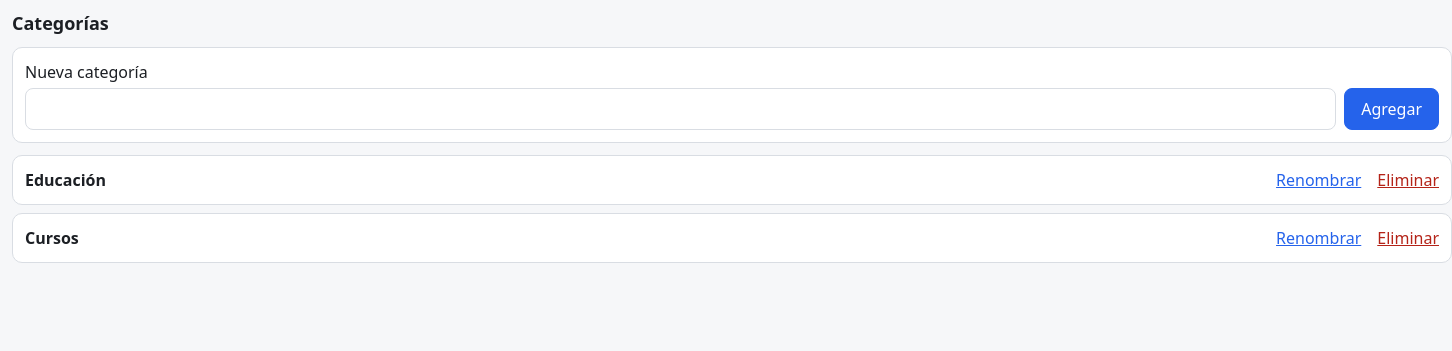
Test: CategoriesPage › muestra el error al renombrar con el nombre de otra categoría
Click the button with aria-label "Renombrar Cursos". click: x=1319, y=238
box: [1276,226,1361,250]
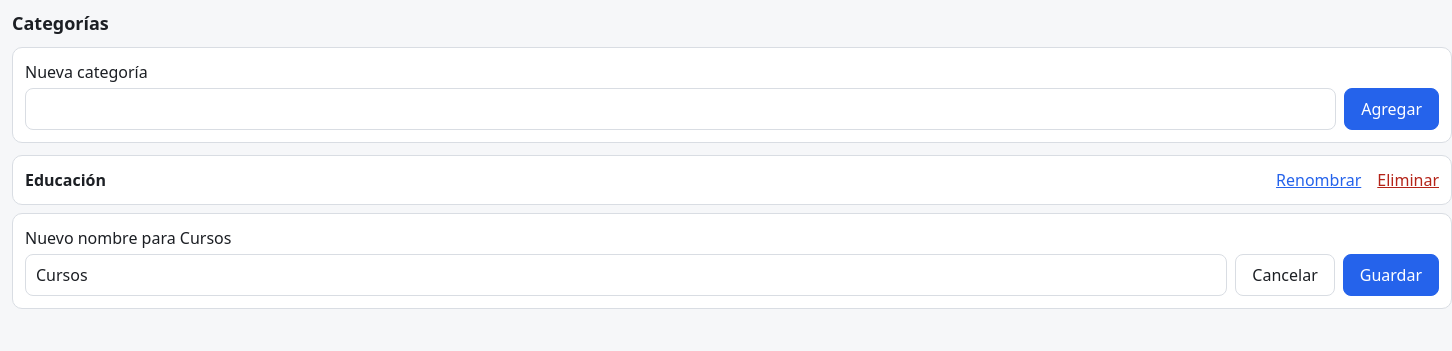
Replace the text in the field labelled "Nuevo nombre para Cursos" with "educacion". click: x=626, y=274
box: [25,254,1227,296]
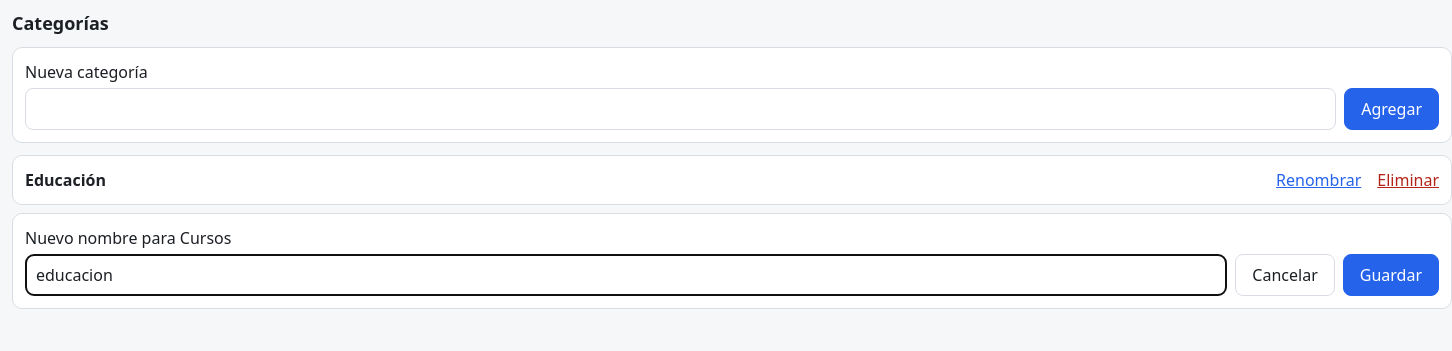
Click the button "Guardar". click: x=1391, y=274
box: [1343,254,1439,296]
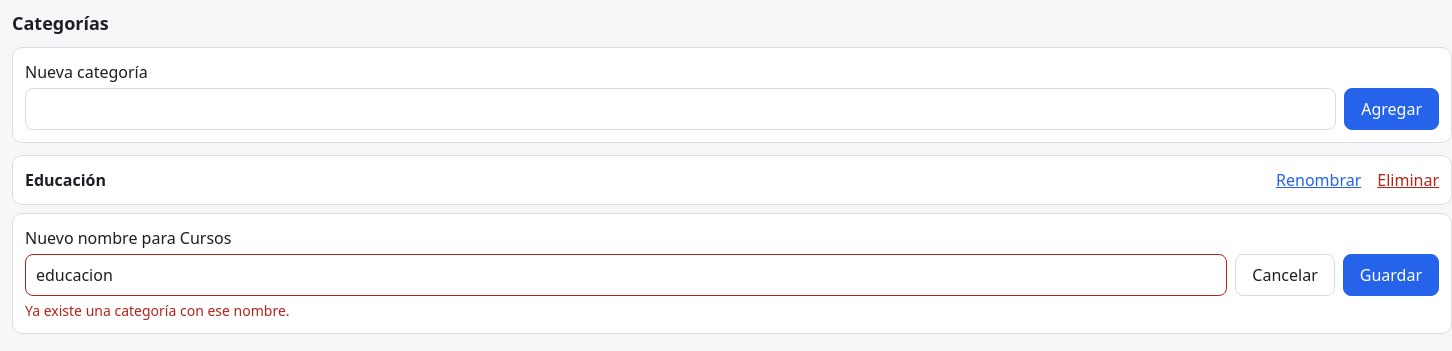
Now the text "Ya existe una categoría con ese nombre." is shown, box [25,300,290,320]
